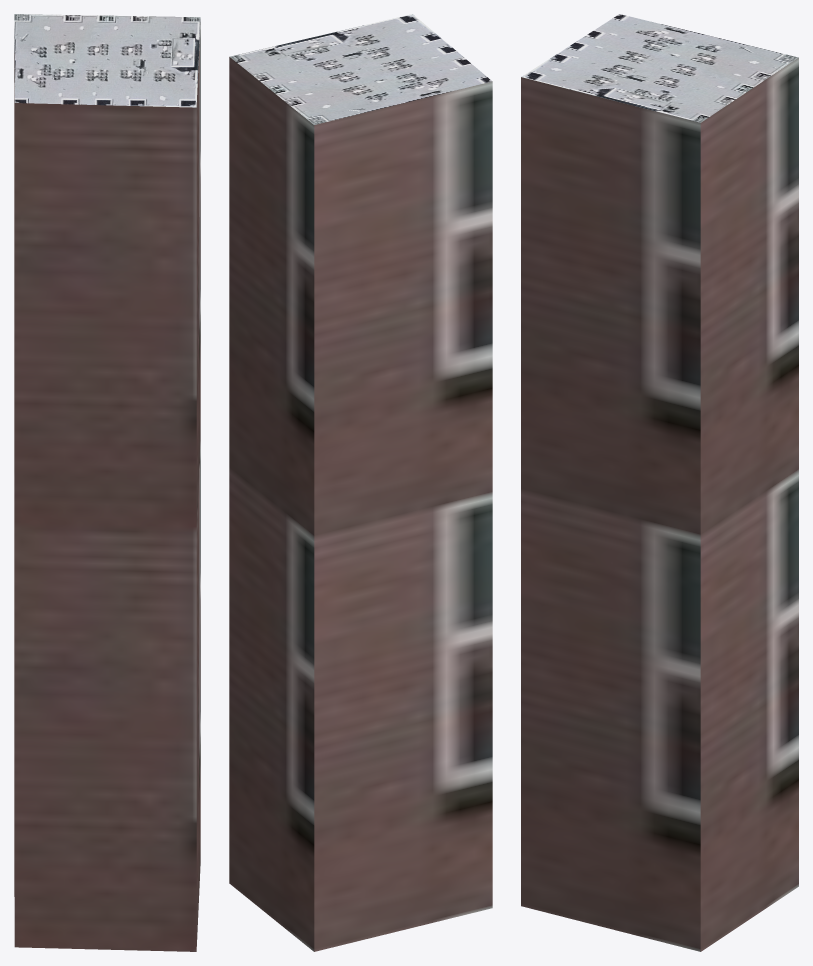
File: ResTex__117.fbx
3 views of the same model, side by side, from view 1: azimuth 30°, elevation 25°; view 2: azimuth 150°, elevation 25°; view 3: azimuth 270°, elevation 25° (orthographic). The views are drawn at different scales.
Parts seen in each view (by area): view 1: CityEngineMaterial_12_m, CityEngineMaterial_4_m; view 2: CityEngineMaterial_12_m, CityEngineMaterial_4_m; view 3: CityEngineMaterial_12_m, CityEngineMaterial_4_m.
Part boxes in pixels (left/top/right/bottom): CityEngineMaterial_12_m: left=14, top=22, right=200, bottom=951; CityEngineMaterial_4_m: left=14, top=14, right=200, bottom=107; CityEngineMaterial_12_m: left=229, top=57, right=492, bottom=951; CityEngineMaterial_4_m: left=230, top=14, right=492, bottom=124; CityEngineMaterial_12_m: left=521, top=57, right=798, bottom=951; CityEngineMaterial_4_m: left=521, top=14, right=798, bottom=122.
Size of the model in its own units: 1.69 by 6 by 1.82.
Materials: 2 (2 with a texture image).
